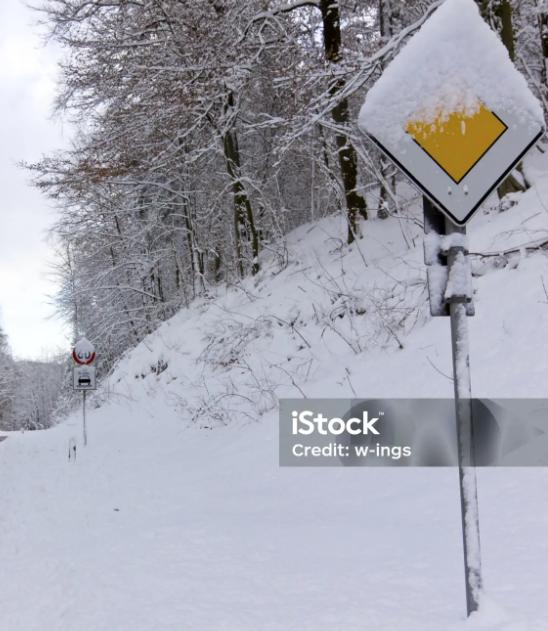obstructed_road_sign: (360, 0, 543, 227), (72, 340, 95, 364), (74, 366, 96, 390)
